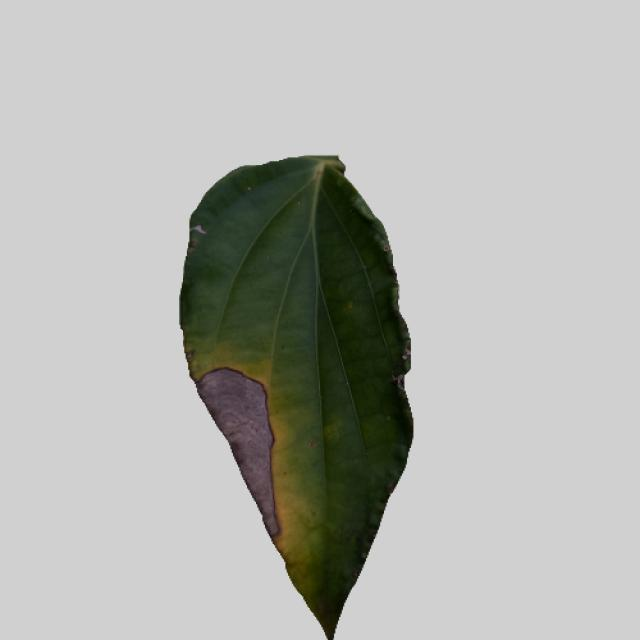leaf-blight: (162, 156, 418, 635)
